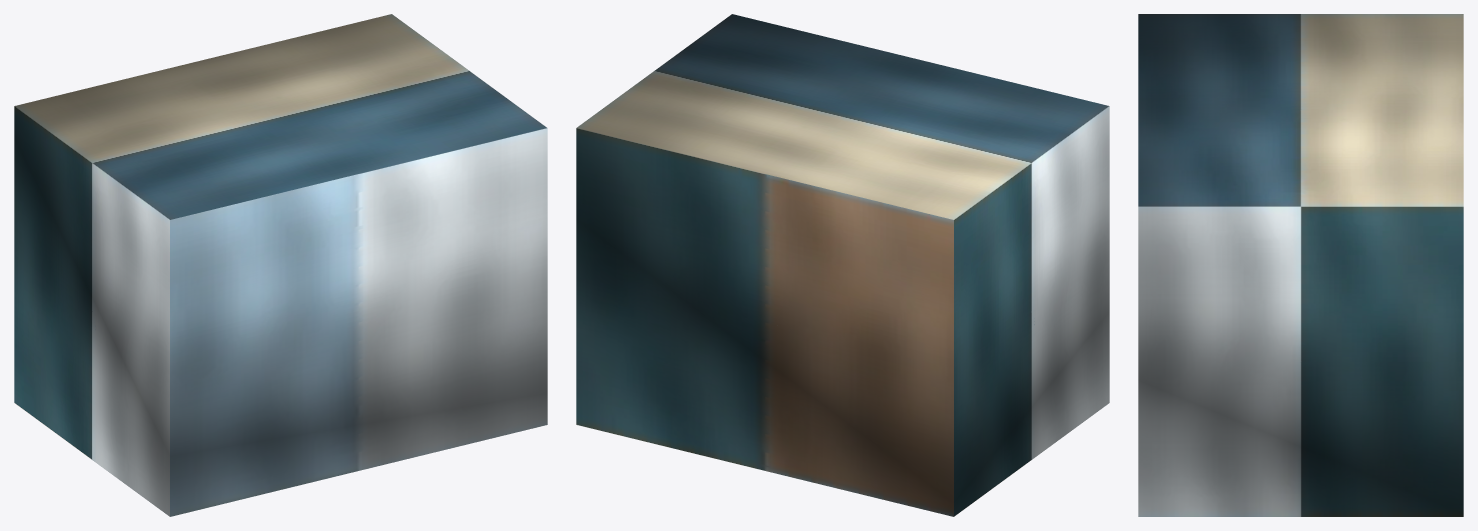
The model's file is ice_rock_b.glb.
The picture shows the model from 3 angles, left to right: view 1: azimuth 30°, elevation 25°; view 2: azimuth 150°, elevation 25°; view 3: azimuth 270°, elevation 25°; orthographic projection. The views are drawn at different scales.
Visible parts, largest first — view 1: col; view 2: col; view 3: col.
Part boxes in pixels (box(x1,y1,x2,y2)): col: box(14, 14, 547, 516); col: box(576, 14, 1109, 516); col: box(1138, 14, 1463, 516).
Size of the model in its own units: 2.34 by 1.76 by 1.67.
1 material, 1 textured.
